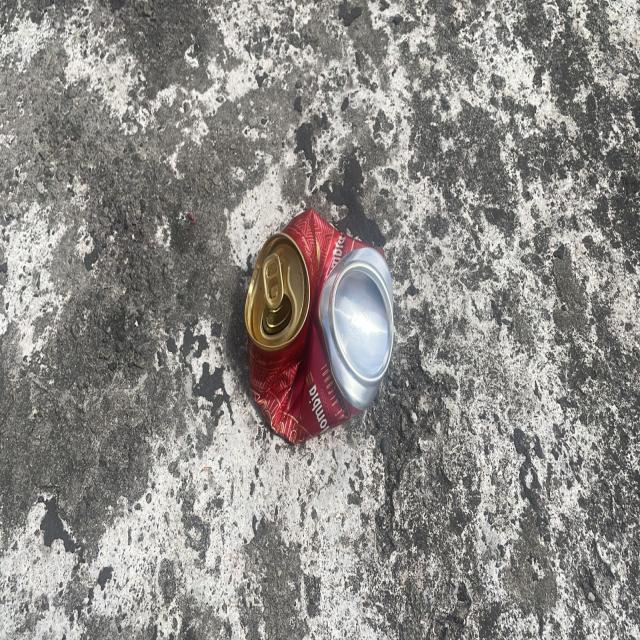Lata: (244, 205, 395, 446)
